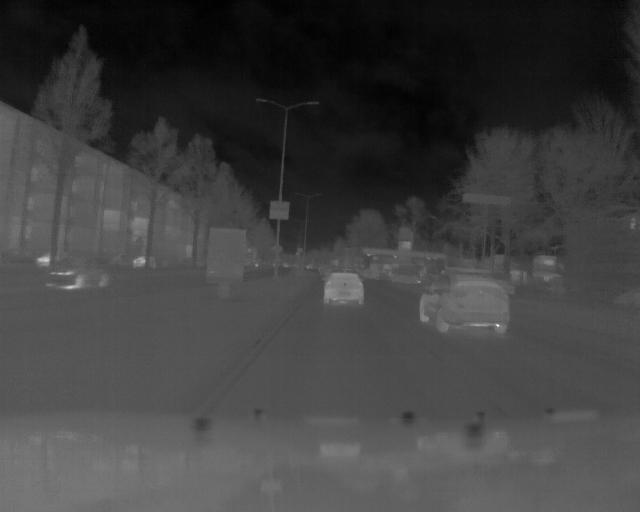car: (418, 272, 512, 335), (45, 254, 112, 291), (323, 270, 367, 308)
